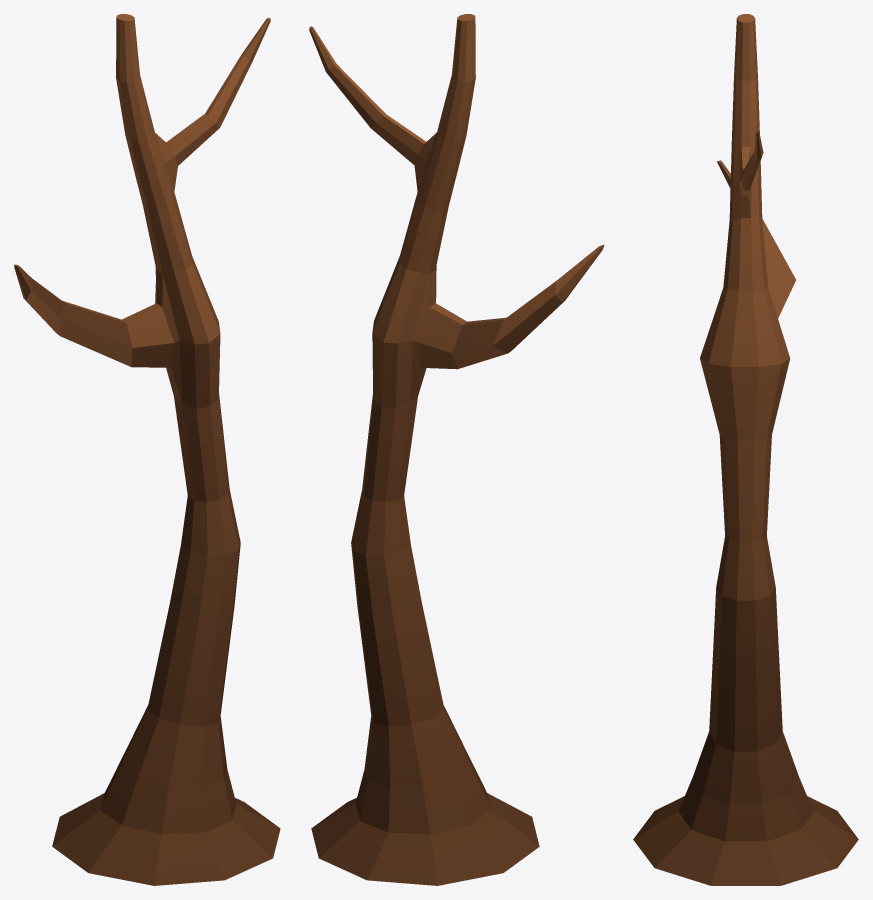
File: Arbol_1_elementosDecorativos_T.fbx
The picture shows the model from 3 angles, left to right: view 1: azimuth 30°, elevation 25°; view 2: azimuth 150°, elevation 25°; view 3: azimuth 270°, elevation 25°; orthographic projection. The views are drawn at different scales.
Visible parts, largest first — view 1: Cylinder; view 2: Cylinder; view 3: Cylinder.
Part boxes in pixels (x1=…): Cylinder: x1=14, y1=14, x2=280, y2=885; Cylinder: x1=309, y1=14, x2=604, y2=885; Cylinder: x1=633, y1=14, x2=858, y2=885.
Size of the model in its own units: 2326 by 6734 by 1715.
